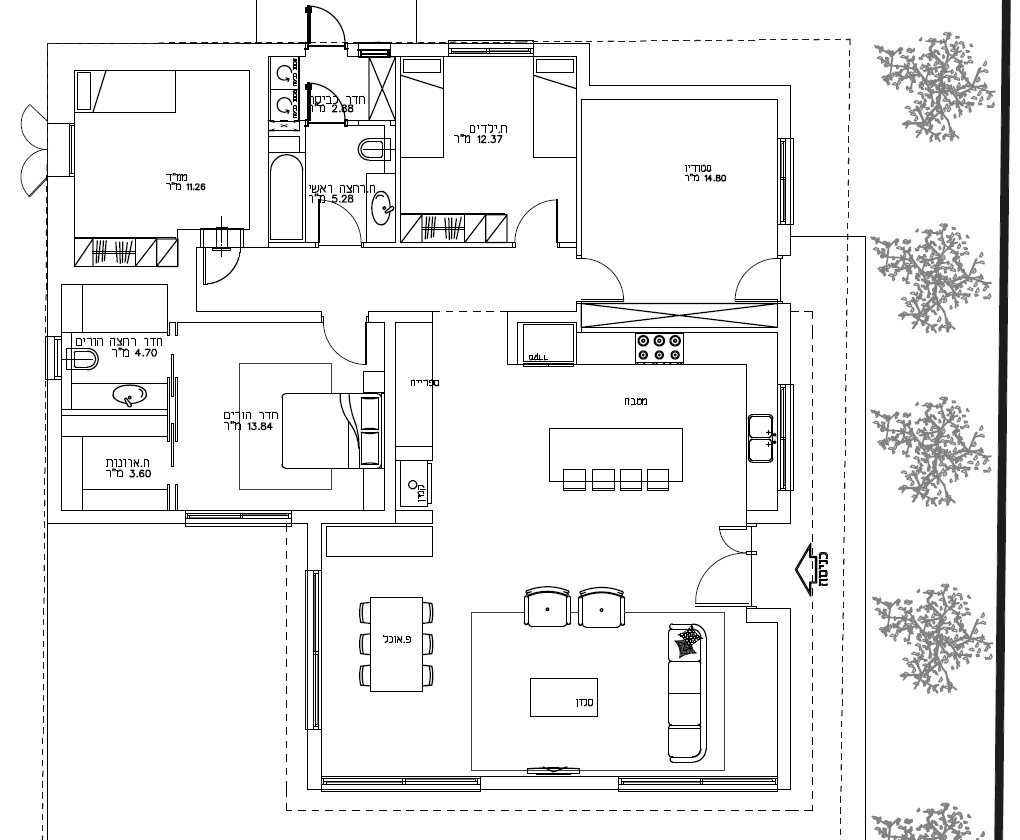door: (668, 545, 742, 609), (586, 252, 640, 303), (719, 254, 774, 301), (514, 191, 563, 235), (314, 191, 359, 234), (199, 253, 244, 295), (334, 328, 373, 374), (302, 79, 347, 117), (300, 3, 347, 35)
window: (302, 567, 325, 732), (320, 772, 482, 795), (616, 773, 779, 795), (773, 382, 798, 492), (183, 507, 292, 529), (772, 136, 797, 226), (445, 38, 535, 58), (43, 333, 63, 380)
